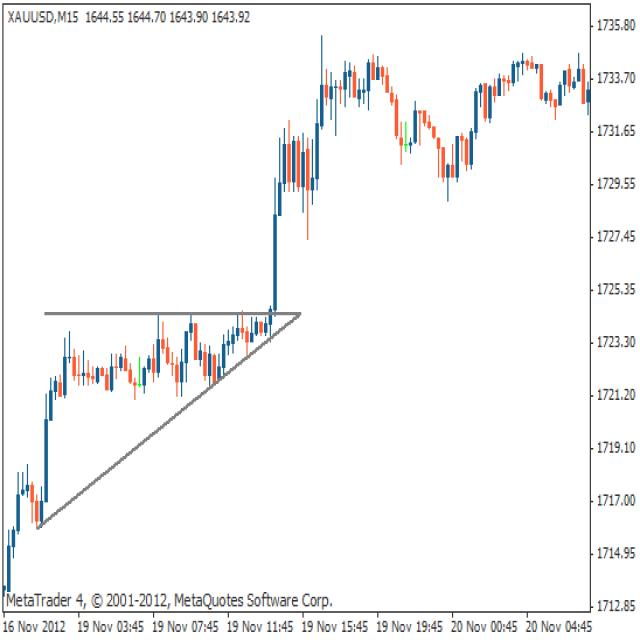Ascending-Triangle: (22, 313, 296, 540)
